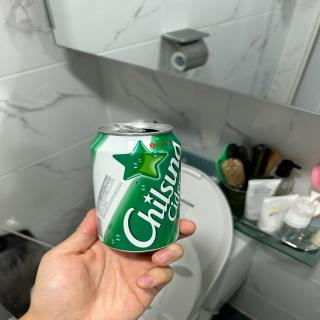chilsung: (90, 118, 183, 256)
